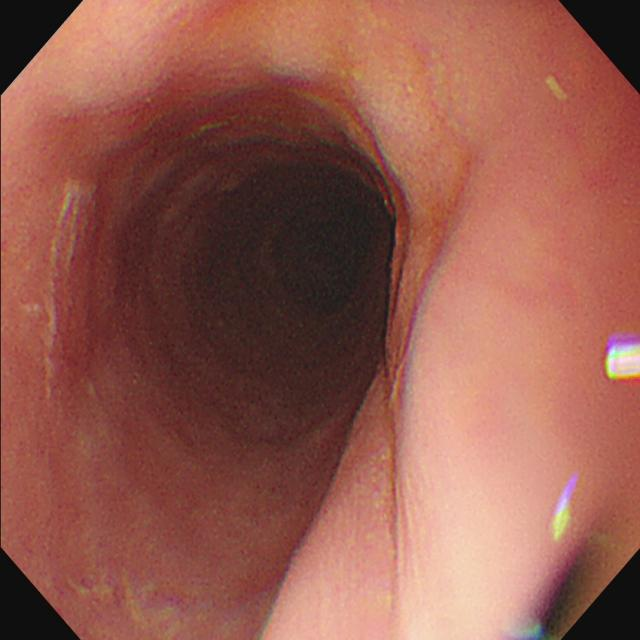E: (191, 148, 402, 375)
J: (43, 178, 98, 400)
U: (603, 338, 640, 386), (550, 477, 577, 540)
